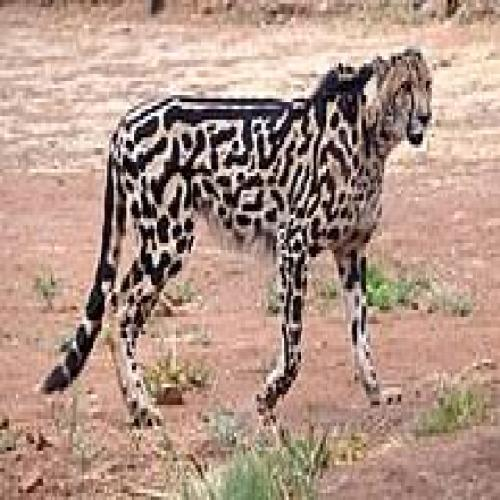cheetah-endangered: (43, 53, 433, 400)
